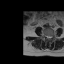CCS_stenosis: (48, 34, 49, 41)
LFS_normal: (51, 34, 52, 39)
LLS_normal: (49, 34, 51, 40)
RFS_normal: (45, 33, 46, 38)
RLS_normal: (46, 34, 48, 40)
